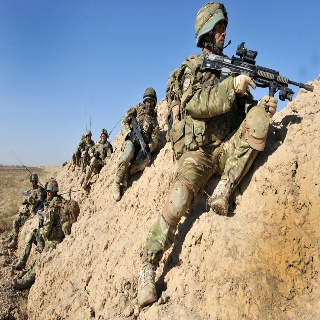rifle: (200, 41, 315, 105), (127, 115, 155, 167)
